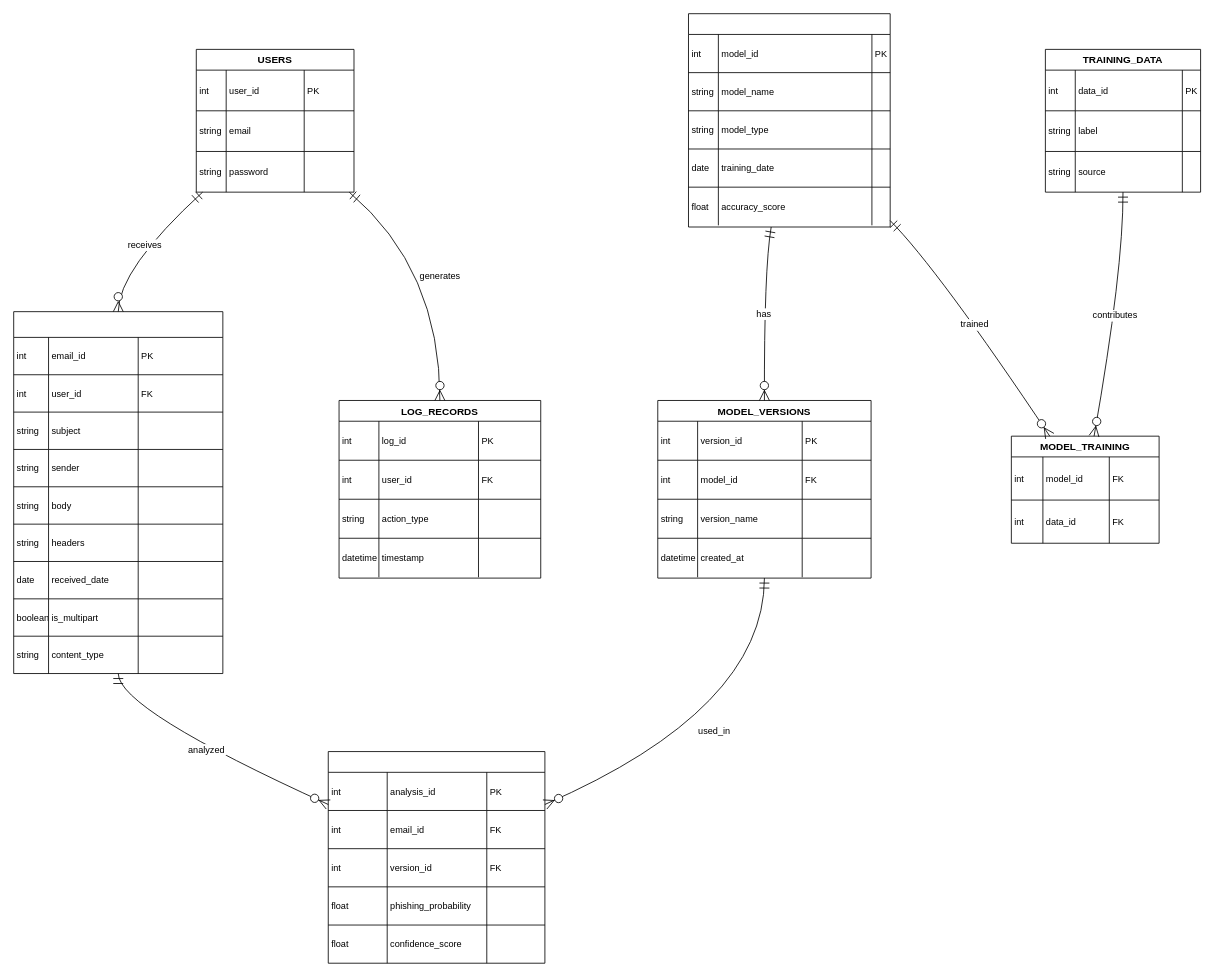
The diagram is 1214 pixels wide and 977 high, and some of its shapes have lost their labels. Each missing label, with the box of its shape:
EMAILS: (13, 311, 223, 674)
ML_MODELS: (688, 13, 890, 227)
PHISHING_ANALYSES: (327, 751, 545, 963)
